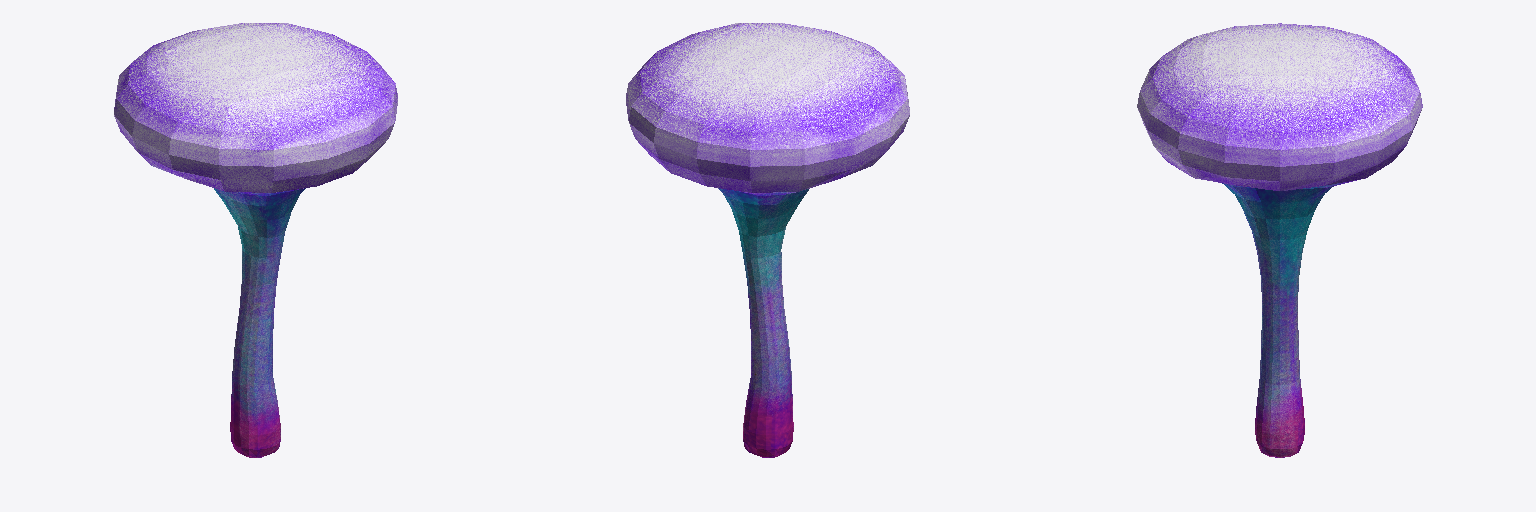
The picture shows the model from 3 angles: view 1: azimuth 30°, elevation 25°; view 2: azimuth 150°, elevation 25°; view 3: azimuth 270°, elevation 25°; orthographic projection.
Parts seen in each view (by area): view 1: Cube_Cube.001; view 2: Cube_Cube.001; view 3: Cube_Cube.001.
Part boxes in pixels (bbox=[...]): Cube_Cube.001: bbox=[114, 23, 397, 457]; Cube_Cube.001: bbox=[626, 23, 909, 457]; Cube_Cube.001: bbox=[1137, 23, 1422, 457].
Bounding box in the file's own units: 8.71 × 13.36 × 8.71.
Materials: 1 (1 with a texture image).